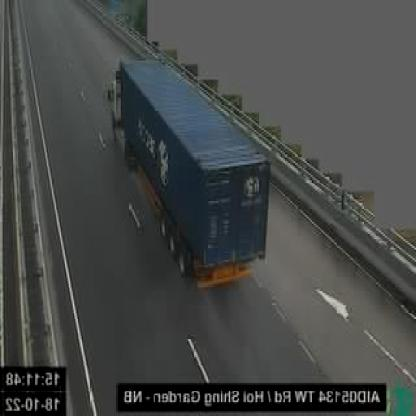Truck: (107, 58, 271, 290)
